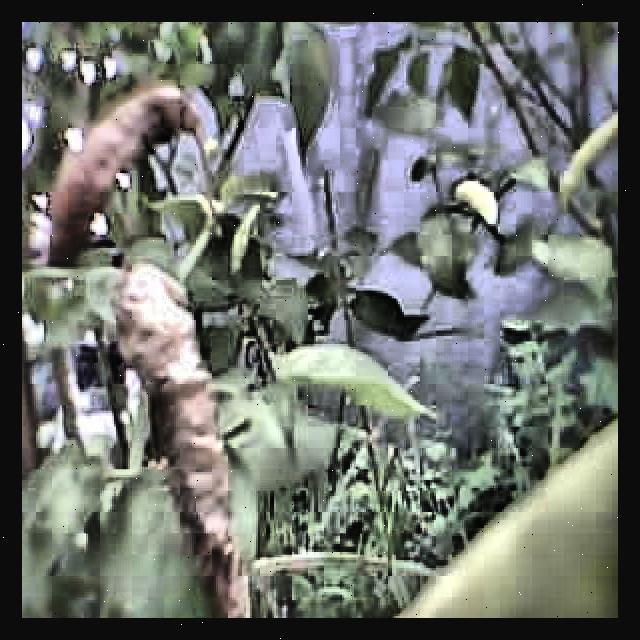Cabai: (94, 272, 282, 618), (47, 99, 219, 257)
